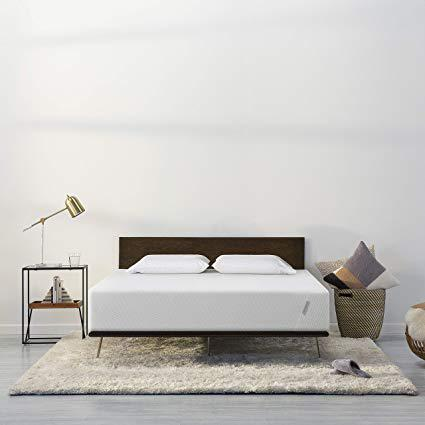bed: (90, 229, 329, 351)
